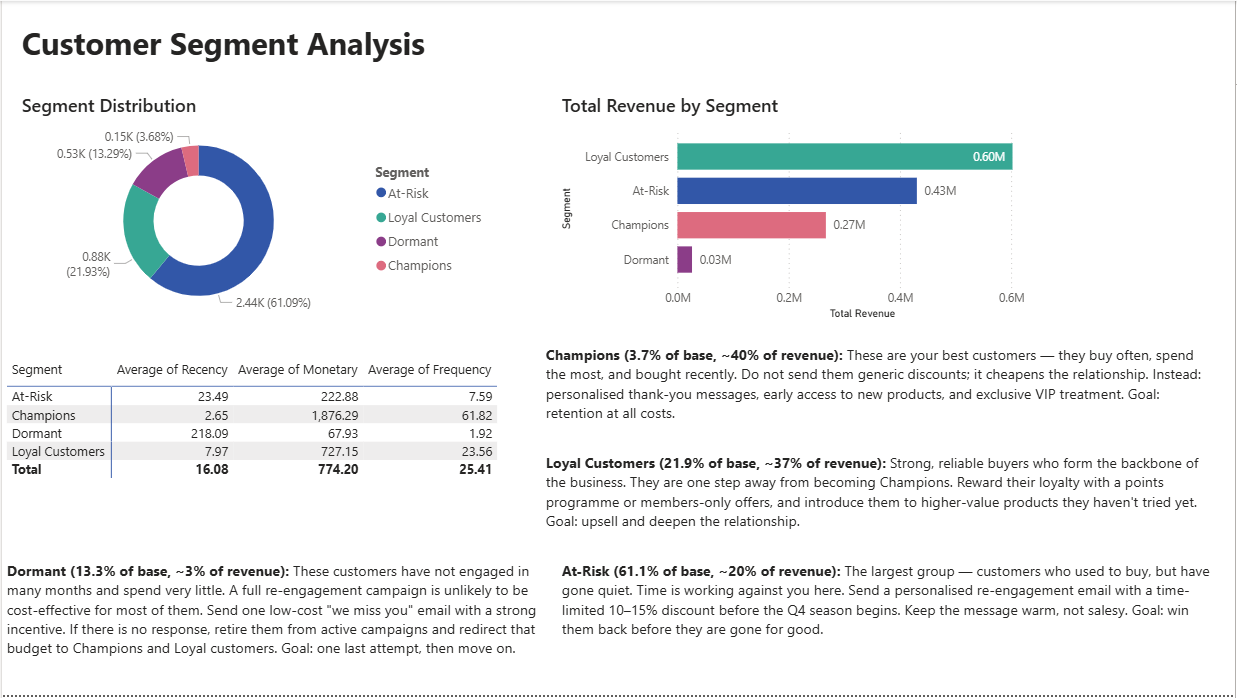

The dashboard page shown, as its layout file describes it:
{"tool":"powerbi","page":{"name":"Page 2","canvas":[1280,720],"ordinal":1},"visuals":[{"type":"textbox","box":[16,16,512,64],"z":0},{"type":"donutChart","title":"Segment Distribution","fields":{"Category":["online_retail_segmented.Segment"],"Y":["Count(online_retail_segmented.CustomerID)"]},"box":[16,96,496,240],"z":1000},{"type":"clusteredBarChart","fields":{"Category":["online_retail_segmented.Segment"],"Y":["online_retail_segmented.Total Revenue"]},"box":[576,96,528,240],"z":2000},{"type":"pivotTable","fields":{"Rows":["online_retail_segmented.Segment"],"Values":["Avg(online_retail_segmented.Recency)","Avg(online_retail_segmented.Monetary)","Avg(online_retail_segmented.Frequency)"]},"box":[0,368,544,176],"z":3000},{"type":"textbox","box":[560,352,704,96],"z":4000},{"type":"textbox","box":[560,464,704,96],"z":5000},{"type":"textbox","box":[576,576,688,96],"z":6000},{"type":"textbox","box":[0,576,560,128],"z":7000}]}

Visuals, with their boxes in screenshot pixels (x1, y1, x2, y2), scaled from the page's 1280x720 canvas onto the 1237x698 screenshot:
textbox: BBox(15, 16, 510, 78)
"Segment Distribution" donutChart: BBox(15, 93, 495, 326)
clusteredBarChart - online_retail_segmented.Segment x online_retail_segmented.Total Revenue: BBox(557, 93, 1067, 326)
pivotTable - online_retail_segmented.Segment x Avg(online_retail_segmented.Recency): BBox(0, 357, 526, 527)
textbox: BBox(541, 341, 1222, 434)
textbox: BBox(541, 450, 1222, 543)
textbox: BBox(557, 558, 1222, 651)
textbox: BBox(0, 558, 541, 682)
